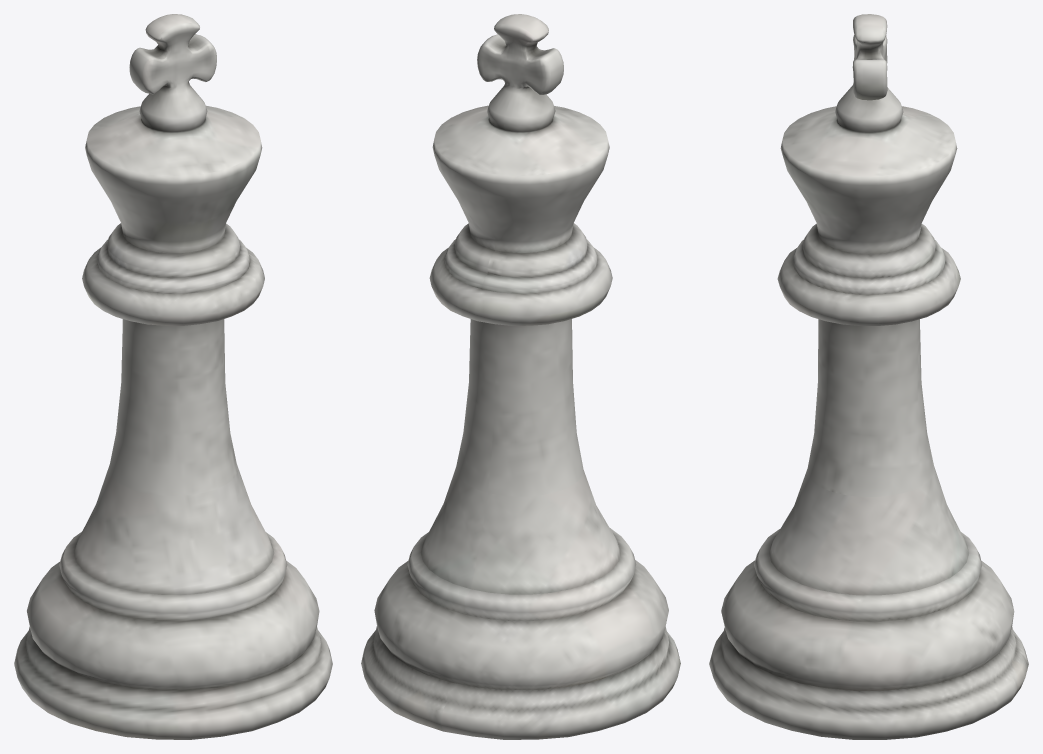
The model's file is king_white.glb.
3 views of the same model, side by side, from view 1: azimuth 30°, elevation 25°; view 2: azimuth 150°, elevation 25°; view 3: azimuth 270°, elevation 25° (orthographic).
Visible parts, largest first — view 1: piece_king_white; view 2: piece_king_white; view 3: piece_king_white.
Part boxes in pixels (bbox=[...]): piece_king_white: bbox=[14, 14, 332, 739]; piece_king_white: bbox=[361, 14, 680, 739]; piece_king_white: bbox=[709, 14, 1028, 739].
Size of the model in its own units: 0.0415 by 0.095 by 0.0417.
1 material, 1 textured.
